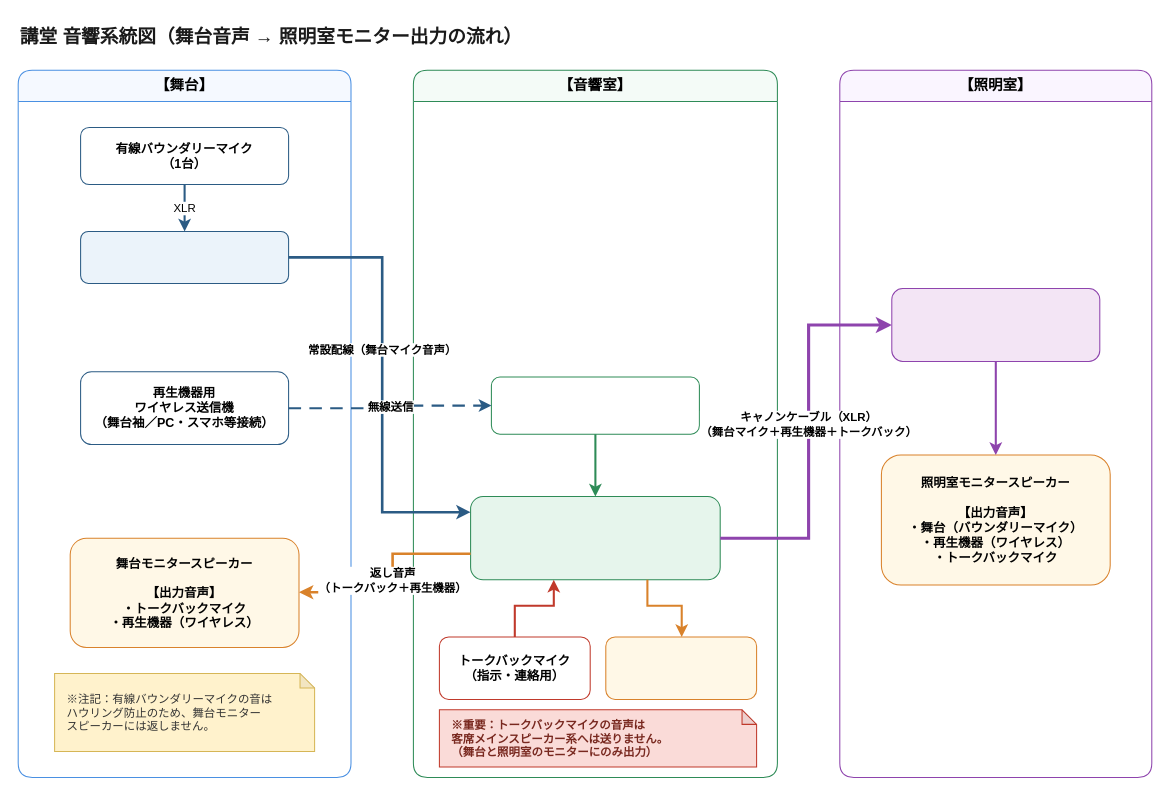
Image size: 1170x796. Some labels were removed from this diagram. Each missing label, with the centre of its shape:
サブミキサー （照明室内での音量調整）: (995,324)
マイクコンセント（舞台盤）: (184,256)
メインミキサー （各音声の集約・音量調整・送り出し）: (595,538)
ワイヤレス受信機: (594,405)
音響室モニタースピーカー （室内確認用）: (681,667)
